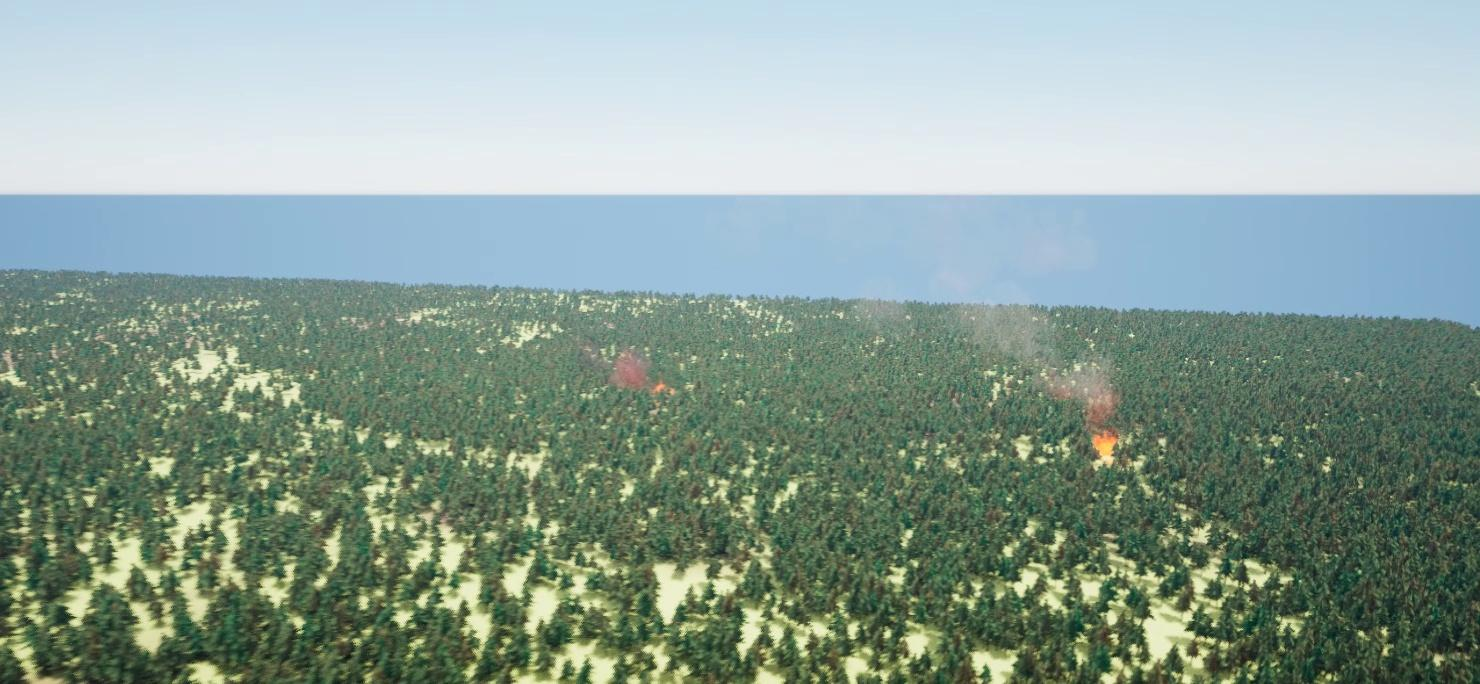fire: (1090, 433, 1120, 461)
smoke: (864, 192, 1126, 426), (603, 352, 671, 402)
